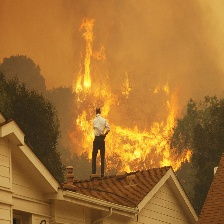fire: (73, 21, 194, 172)
smoke: (1, 2, 224, 146)
